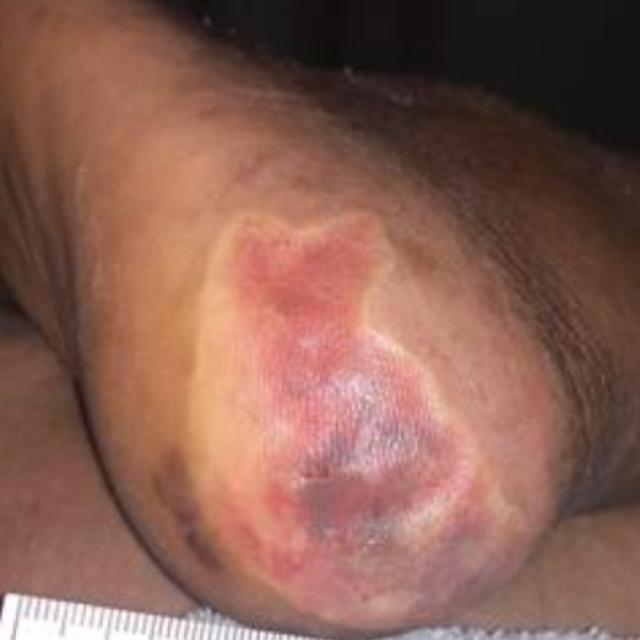DTI: (225, 221, 527, 625)
